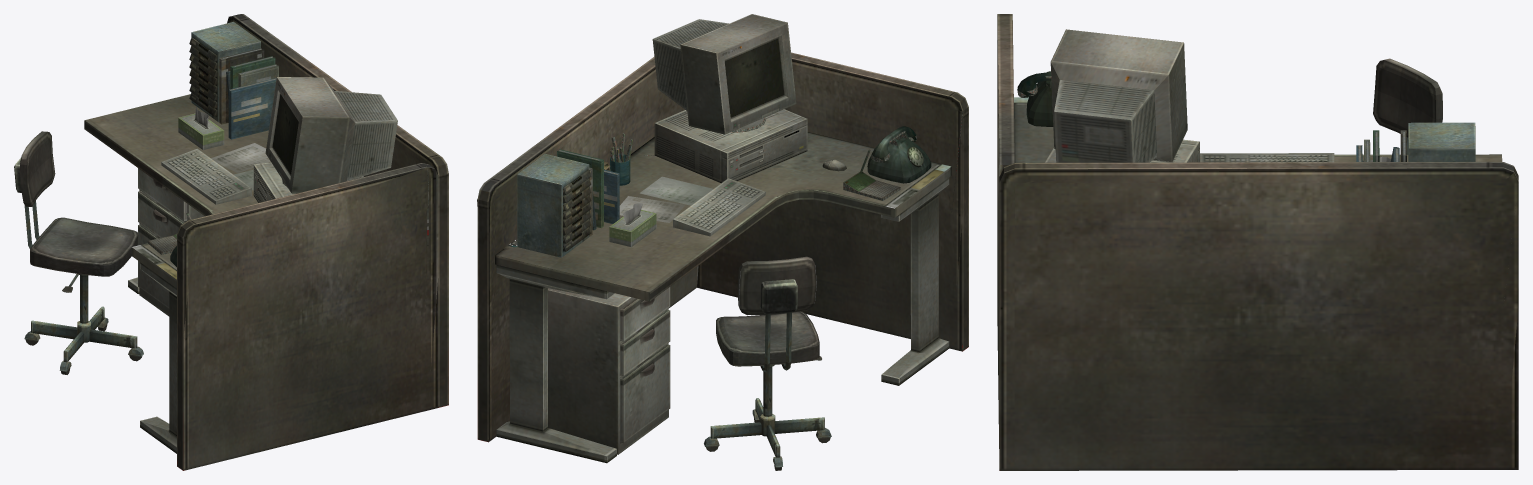
The model's file is retrodesk.gltf.
3 renders of one model, left to right at view 1: azimuth 30°, elevation 25°; view 2: azimuth 150°, elevation 25°; view 3: azimuth 270°, elevation 25°, orthographic. The views are drawn at different scales.
Parts seen in each view (by area): view 1: node-0; view 2: node-0; view 3: node-0.
Part boxes in pixels (bbox=[...]): node-0: bbox=[14, 14, 448, 470]; node-0: bbox=[477, 14, 968, 470]; node-0: bbox=[997, 14, 1518, 470].
Bounding box in the file's own units: 60.84 × 63.08 × 80.67.
Materials: 1 (1 with a texture image).
